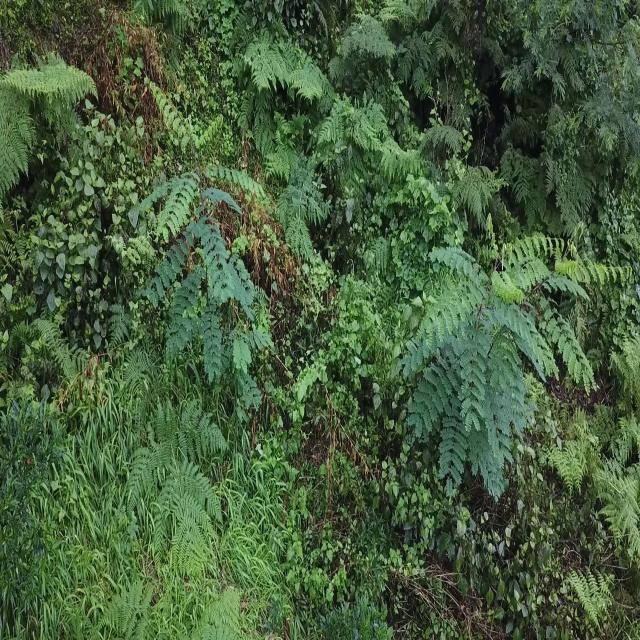Mysore-Thorn-Weed: (391, 223, 578, 500), (136, 83, 250, 382)
